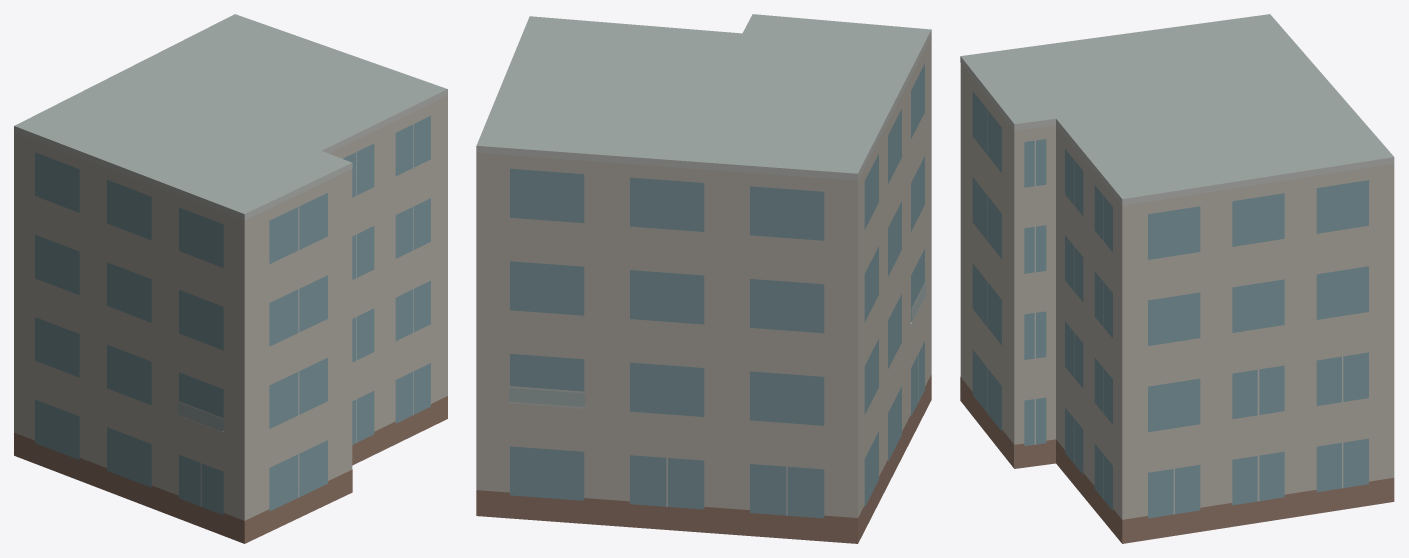
The model's file is survey-upis-32865216.glb.
3 renders of one model, left to right at view 1: azimuth 30°, elevation 25°; view 2: azimuth 150°, elevation 25°; view 3: azimuth 270°, elevation 25°, orthographic. The views are drawn at different scales.
Visible parts, largest first — view 1: survey-upis-32865216.tmp; view 2: survey-upis-32865216.tmp; view 3: survey-upis-32865216.tmp.
Boxes of the visible parts, left/top/right/bottom form: survey-upis-32865216.tmp: left=14, top=14, right=447, bottom=543; survey-upis-32865216.tmp: left=476, top=14, right=931, bottom=543; survey-upis-32865216.tmp: left=960, top=14, right=1394, bottom=543.
Size of the model in its own units: 14.99 by 13 by 14.84.
